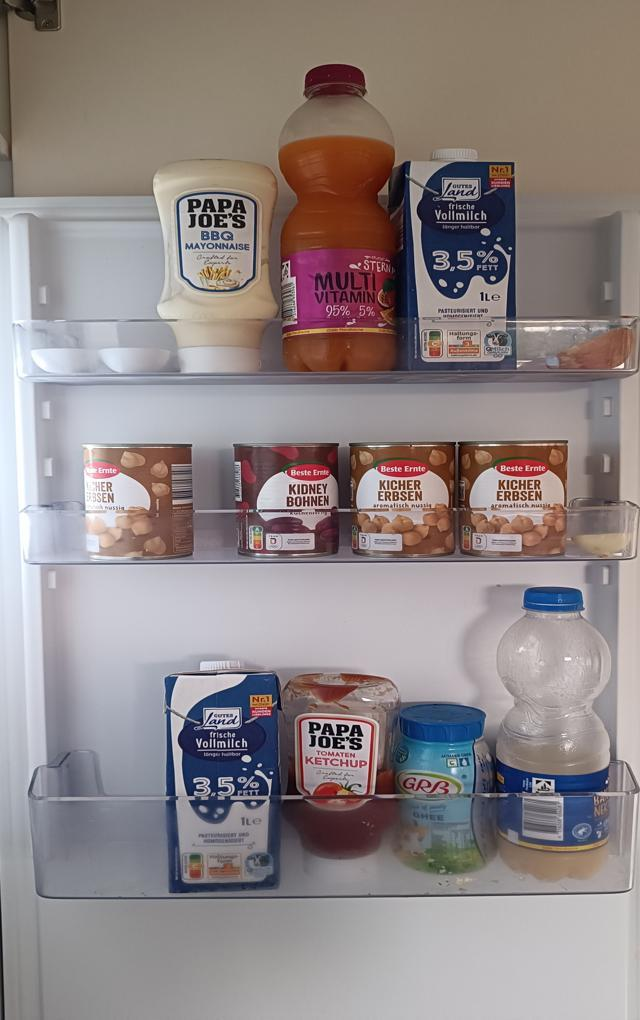bananajuice: (495, 588, 614, 880)
chickpeas: (80, 442, 196, 560), (458, 442, 568, 559), (351, 443, 456, 559)
ghee: (397, 700, 500, 875)
kidneybeans: (231, 441, 337, 555)
mayoniasie: (153, 158, 280, 375)
milk: (165, 660, 285, 895), (394, 146, 518, 372)
orangejuice: (279, 63, 401, 373)
tomatoketchup: (283, 674, 399, 884)
